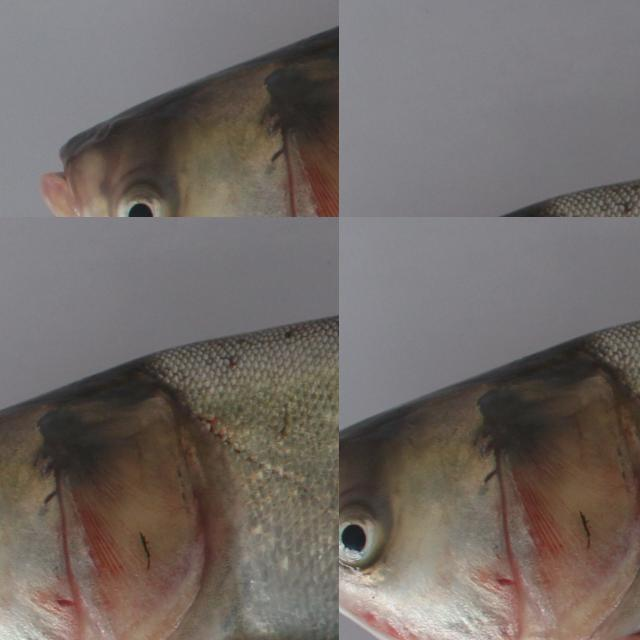fish: (0, 0, 170, 94)
